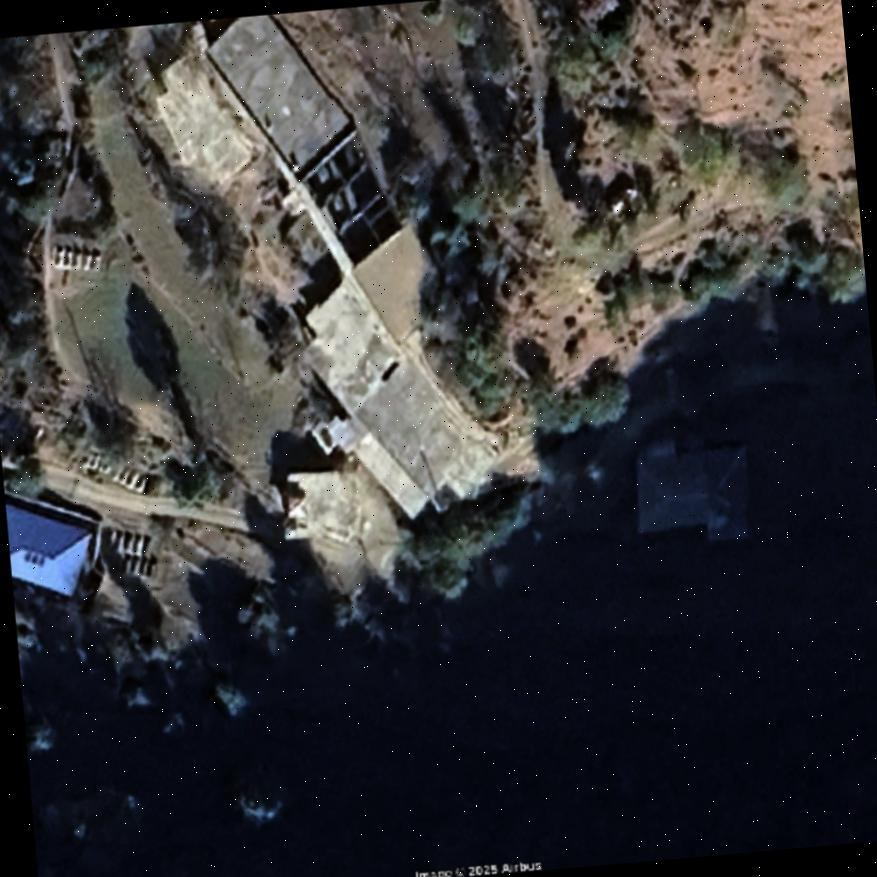Solarpanel: (19, 549, 45, 566)
